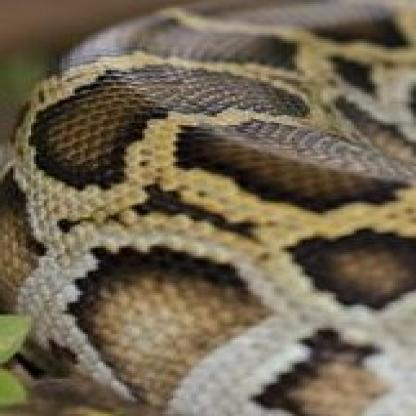Snake: (5, 6, 416, 373)
